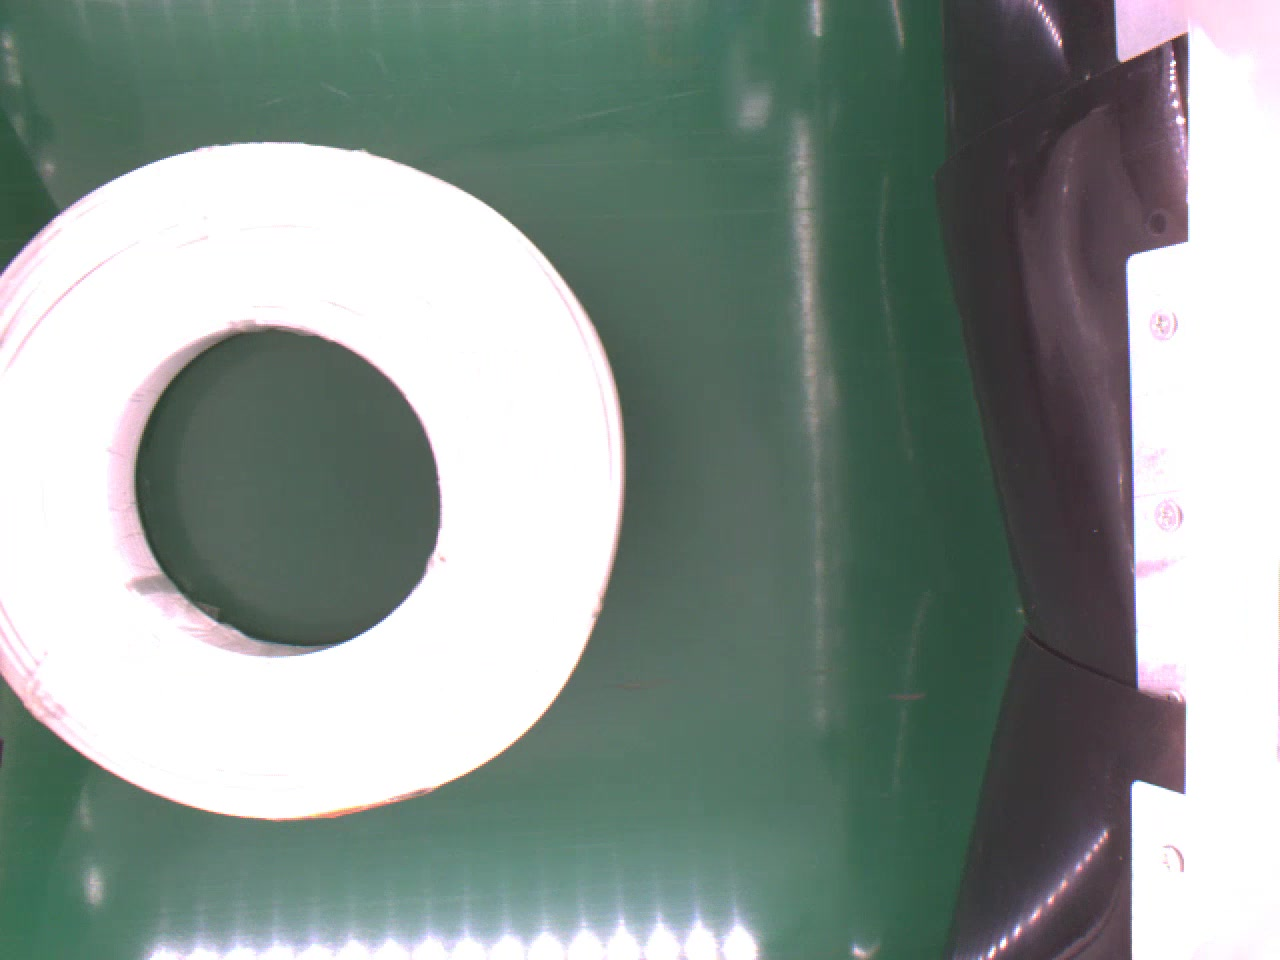white: (0, 136, 628, 823)
